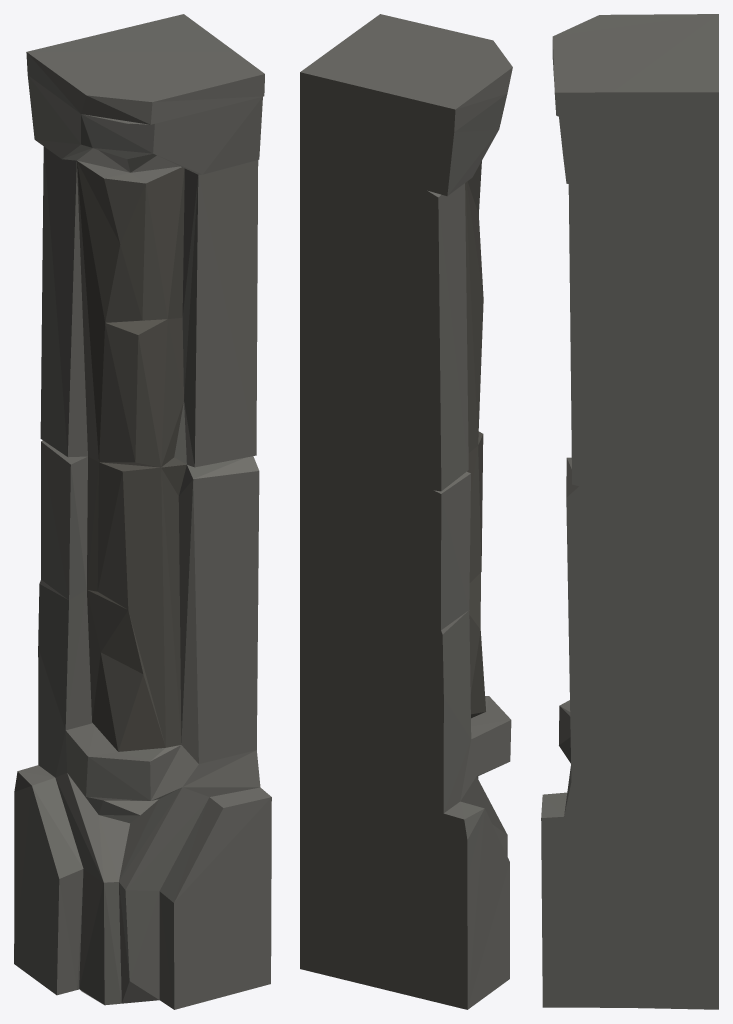
Rendered from MDungeon_PillarSmall_Mid_Quater.FBX.
The picture shows the model from 3 angles, left to right: view 1: azimuth 30°, elevation 25°; view 2: azimuth 150°, elevation 25°; view 3: azimuth 270°, elevation 25°; orthographic projection. The views are drawn at different scales.
Visible parts, largest first — view 1: MDungeon_PillarSmall_Mid_Quater_LOD0; view 2: MDungeon_PillarSmall_Mid_Quater_LOD0; view 3: MDungeon_PillarSmall_Mid_Quater_LOD0.
Part boxes in pixels (bbox=[...]): MDungeon_PillarSmall_Mid_Quater_LOD0: bbox=[14, 14, 271, 1009]; MDungeon_PillarSmall_Mid_Quater_LOD0: bbox=[300, 14, 512, 1009]; MDungeon_PillarSmall_Mid_Quater_LOD0: bbox=[541, 14, 718, 1009].
Size of what is drawn, in the model's own units: 0.9825 by 5.03 by 0.8812.
